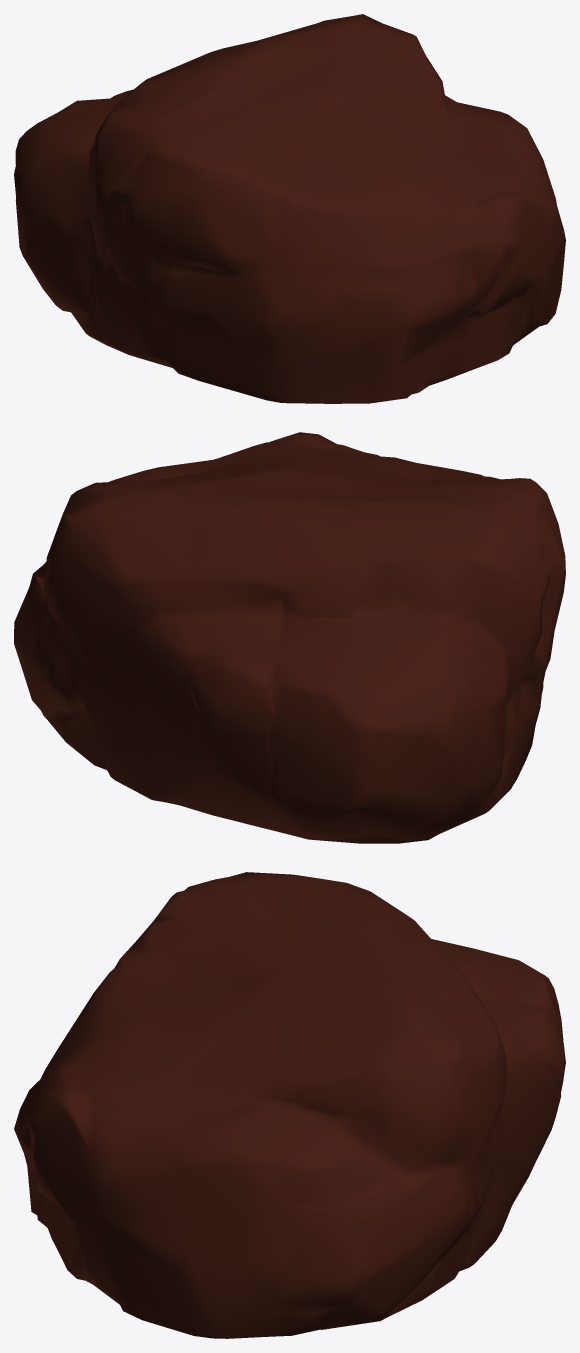
File: Nature_Small_Rock2.FBX
3 views of the same model, one above another, from view 1: azimuth 30°, elevation 25°; view 2: azimuth 150°, elevation 25°; view 3: azimuth 270°, elevation 25° (orthographic). The views are drawn at different scales.
Parts seen in each view (by area): view 1: Rock_Small2; view 2: Rock_Small2; view 3: Rock_Small2.
Boxes of the visible parts, x1,y1,x2,y2 form: Rock_Small2: [14, 14, 565, 403]; Rock_Small2: [14, 432, 565, 843]; Rock_Small2: [14, 872, 565, 1338].
Bounding box in the file's own units: 170 × 86.21 × 164.
